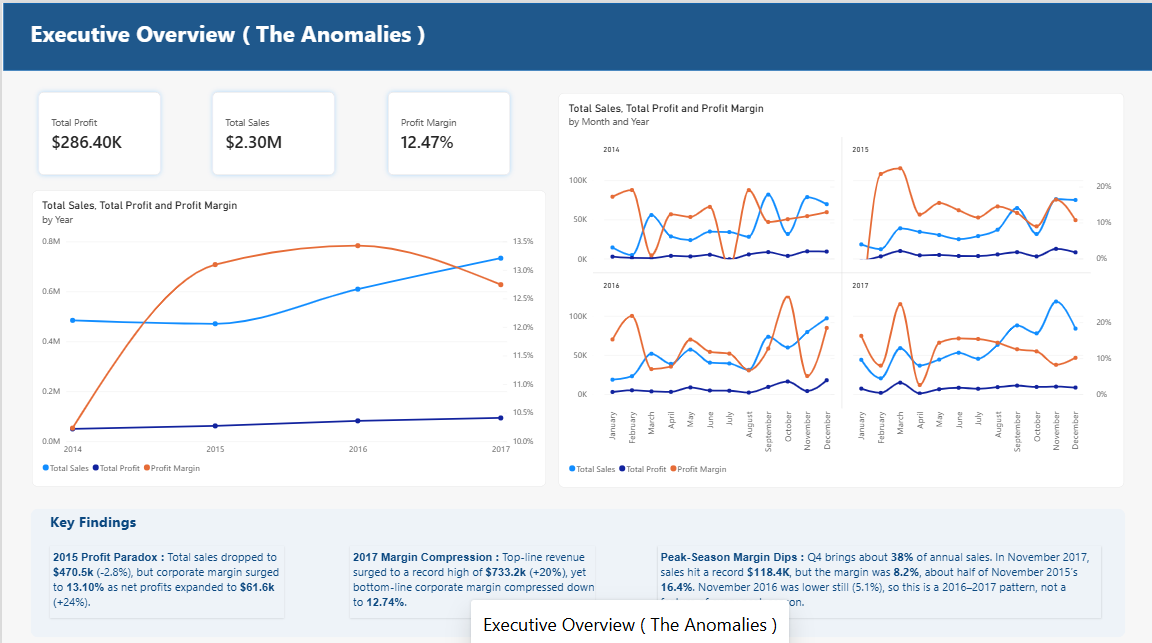

The page's visual inventory and layout, read from the dashboard file:
{"tool":"powerbi","page":{"name":"Executive Overview ( The Anomalies )","canvas":[1920,1080],"ordinal":1},"visuals":[{"type":"lineChart","fields":{"Category":["superstore_sales.Order Date.Variation.Date Hierarchy.Year"],"Y":["Sum(superstore_sales.Sales)","Sum(superstore_sales.Profit)"],"Y2":["superstore_sales.Profit Margin"]},"box":[50,313.3,856.7,493.3],"z":0},{"type":"cardVisual","fields":{"Data":["superstore_sales.Profit Margin"]},"box":[633.3,136.7,225,160],"z":1000},{"type":"cardVisual","fields":{"Data":["superstore_sales.Total Profit"]},"box":[50,136.7,225,160],"z":2000},{"type":"cardVisual","fields":{"Data":["superstore_sales.Total Sales"]},"box":[340,136.7,225,160],"z":3000},{"type":"lineChart","fields":{"Category":["superstore_sales.Order Date.Variation.Date Hierarchy.Month"],"Rows":["superstore_sales.Order Date.Variation.Date Hierarchy.Year"],"Y":["Sum(superstore_sales.Sales)","Sum(superstore_sales.Profit)"],"Y2":["superstore_sales.Profit Margin"]},"box":[927.5,150,942.5,657.5],"z":4000},{"type":"shape","box":[2.5,0,1917.5,112.5],"z":5000},{"type":"textbox","box":[47.5,25,665,62.5],"z":6000},{"type":"shape","box":[47.5,842.5,1825,215],"z":7000},{"type":"textbox","box":[80,848,154,40],"z":8000},{"type":"textbox","box":[80,904,390,120],"z":9000},{"type":"textbox","box":[580,904,408,120],"z":10000},{"type":"textbox","box":[1092,904,740,120],"z":11000}]}

Visuals, with their boxes in screenshot pixels (x1, y1, x2, y2), scaled from the page's 1920x1080 canvas onto the 1152x643 screenshot:
lineChart - superstore_sales.Order Date.Variation.Date Hierarchy.Year x Sum(superstore_sales.Sales): 30:187:544:480
cardVisual - superstore_sales.Profit Margin: 380:81:515:177
cardVisual - superstore_sales.Total Profit: 30:81:165:177
cardVisual - superstore_sales.Total Sales: 204:81:339:177
lineChart - superstore_sales.Order Date.Variation.Date Hierarchy.Month x superstore_sales.Order Date.Variation.Date Hierarchy.Year: 556:89:1122:481
shape: 2:0:1151:67
textbox: 28:15:428:52
shape: 28:502:1124:630
textbox: 48:505:140:529
textbox: 48:538:282:610
textbox: 348:538:593:610
textbox: 655:538:1099:610
